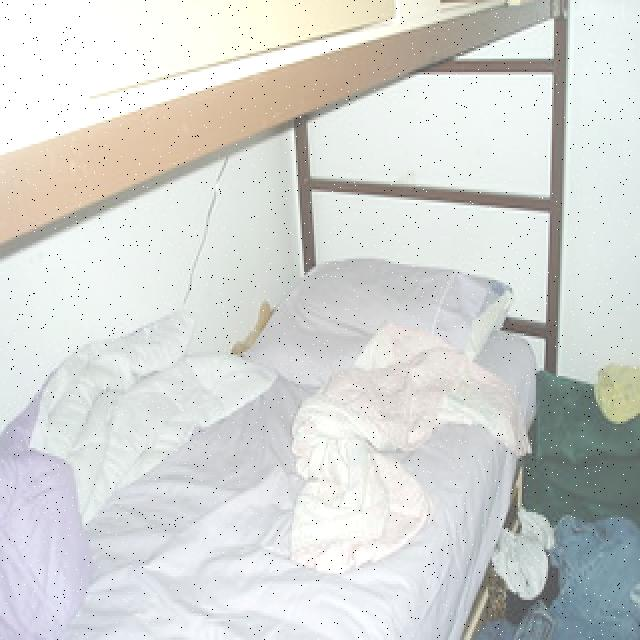bed: (0, 258, 540, 640)
